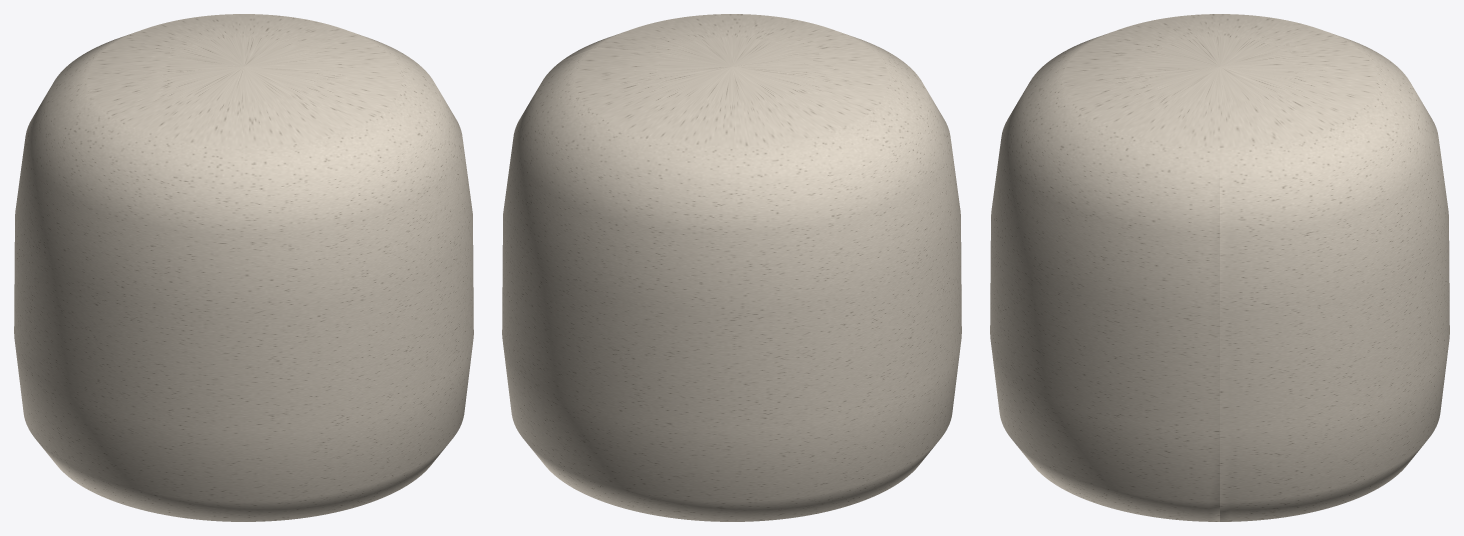
The model's file is G24_ivory_drum_stool.glb.
The picture shows the model from 3 angles, left to right: view 1: azimuth 30°, elevation 25°; view 2: azimuth 150°, elevation 25°; view 3: azimuth 270°, elevation 25°; orthographic projection.
Visible parts, largest first — view 1: item / Shared warm ivory fine granular stone; view 2: item / Shared warm ivory fine granular stone; view 3: item / Shared warm ivory fine granular stone.
Part boxes in pixels (x1,y1,x2,y2): item / Shared warm ivory fine granular stone: [14, 14, 473, 521]; item / Shared warm ivory fine granular stone: [502, 14, 961, 521]; item / Shared warm ivory fine granular stone: [990, 14, 1449, 521].
Size of the model in its own units: 0.5 by 0.46 by 0.5.
1 material, 1 textured.
